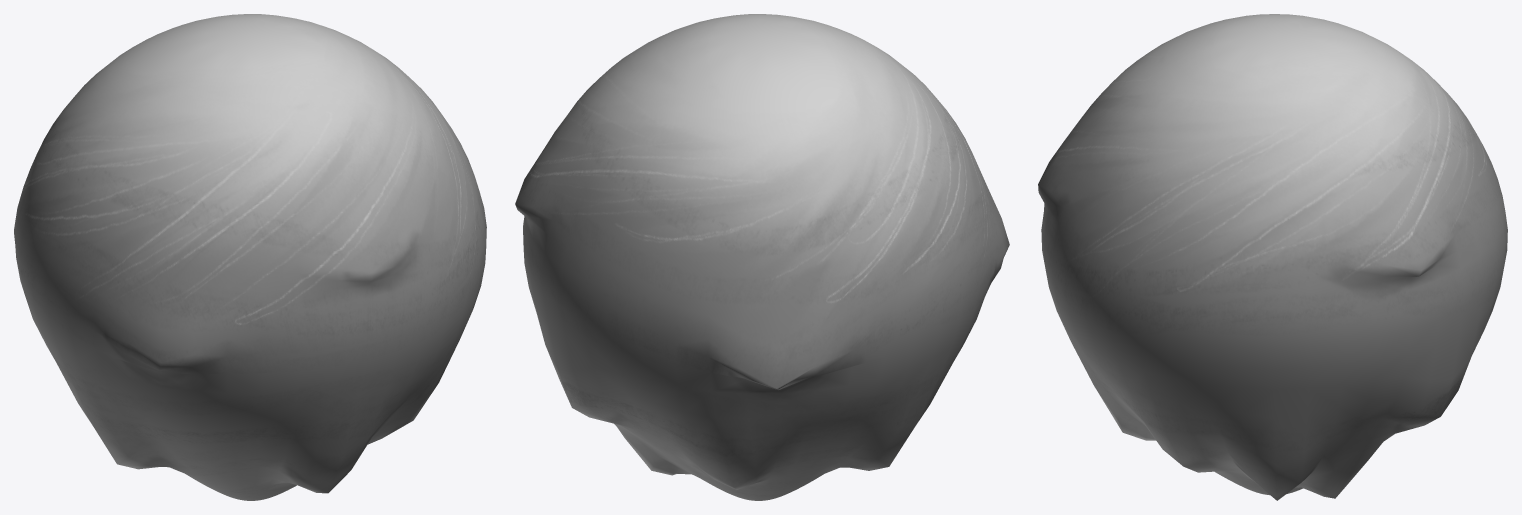
The model's file is GDC-ANI-bullet-BAKED.fbx.
The picture shows the model from 3 angles, left to right: view 1: azimuth 30°, elevation 25°; view 2: azimuth 150°, elevation 25°; view 3: azimuth 270°, elevation 25°; orthographic projection.
Visible parts, largest first — view 1: pSphere4; view 2: pSphere4; view 3: pSphere4.
Part boxes in pixels (bbox=[...]): pSphere4: bbox=[14, 14, 486, 500]; pSphere4: bbox=[515, 14, 1009, 500]; pSphere4: bbox=[1038, 14, 1507, 500].
Bounding box in the file's own units: 4.55 × 4.9 × 4.58.
